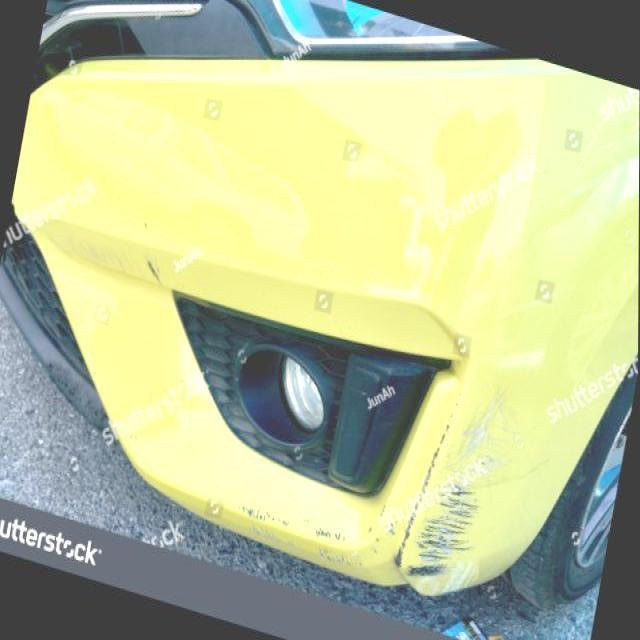minor: (309, 527, 351, 543), (144, 261, 165, 285)
moderate: (400, 465, 478, 593), (238, 507, 308, 531)
